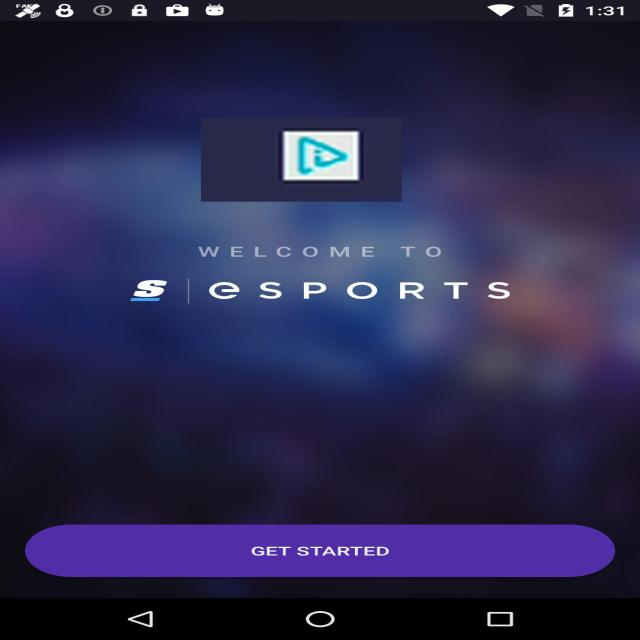sneaking: (201, 118, 402, 202)
